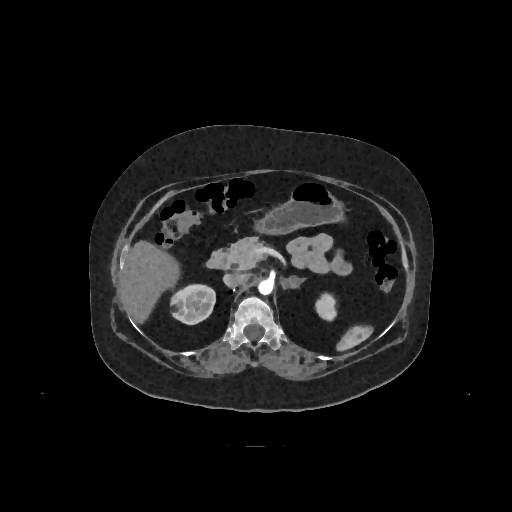Lesion: (167, 303, 183, 316)
